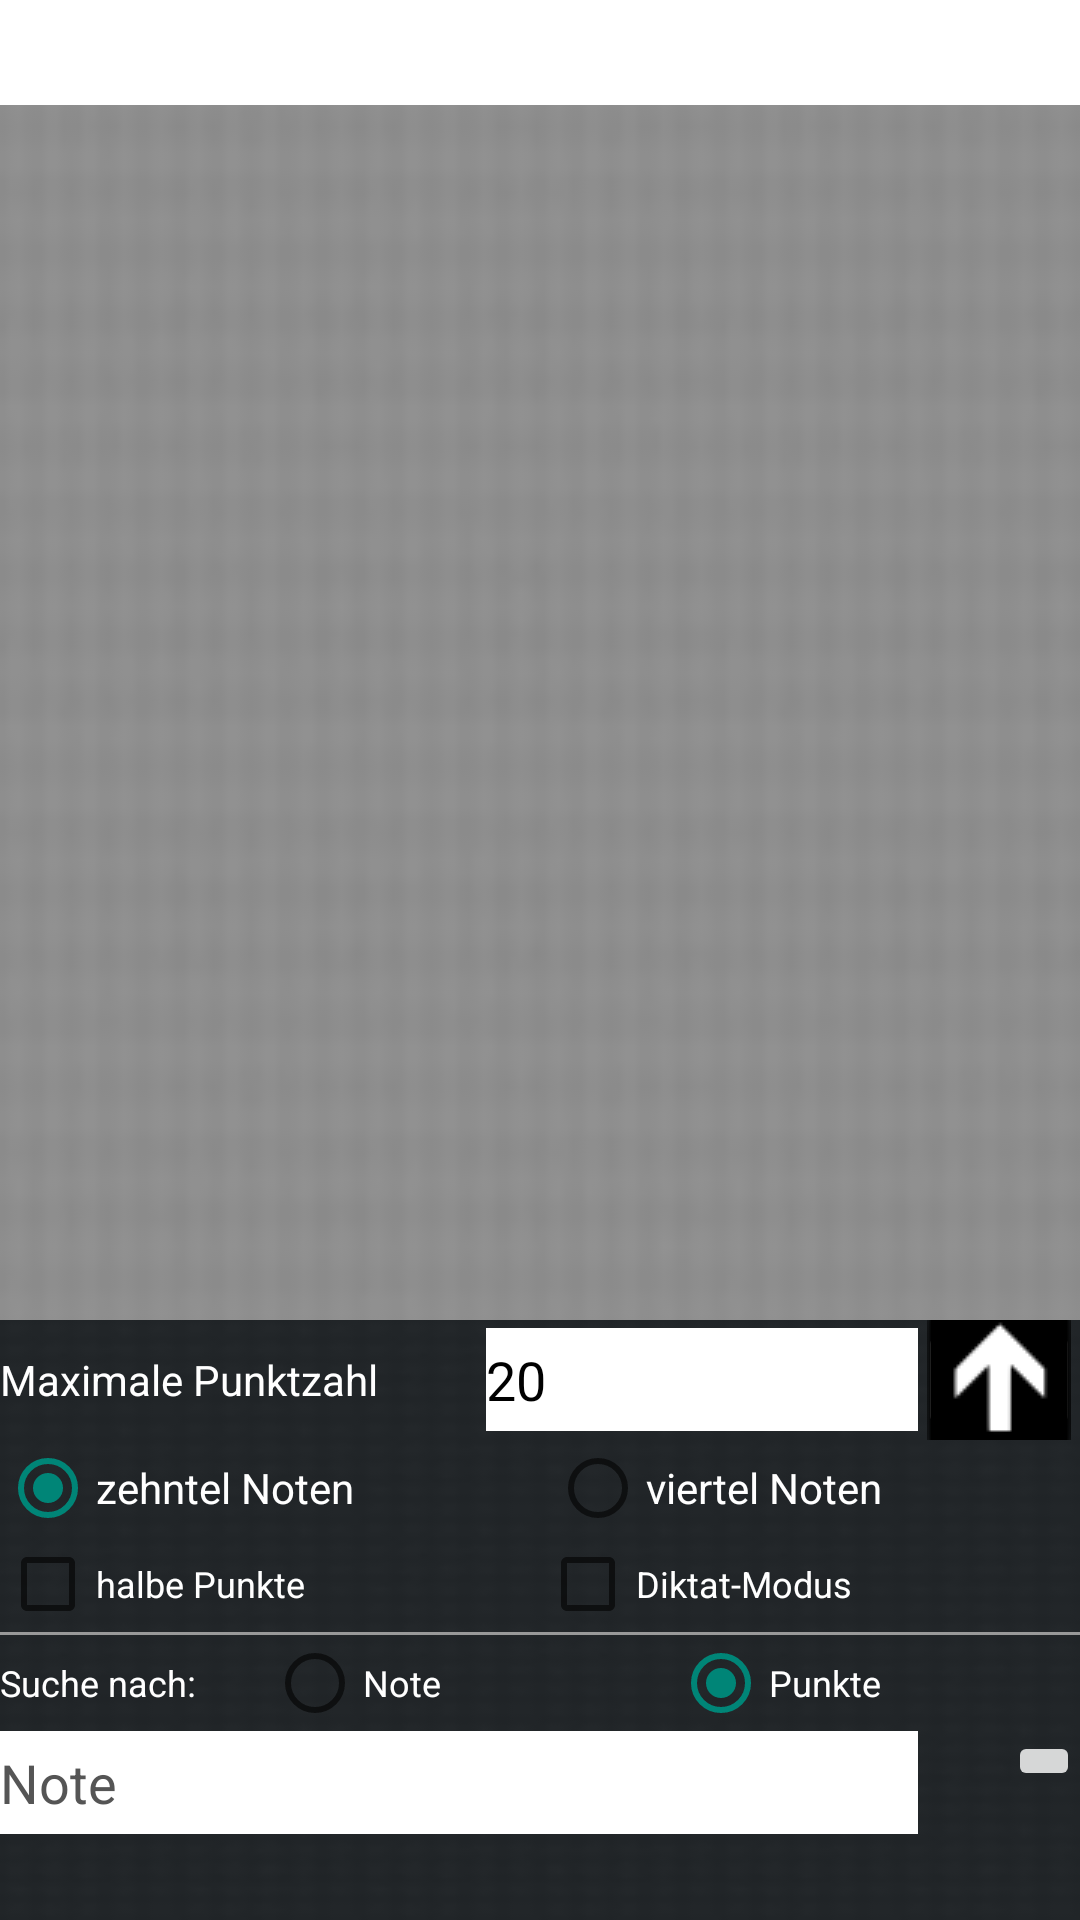

Where to tap for icons on this 1080x1920 app screen, as (x=x, y=y):
exp open: (x=999, y=1380)
